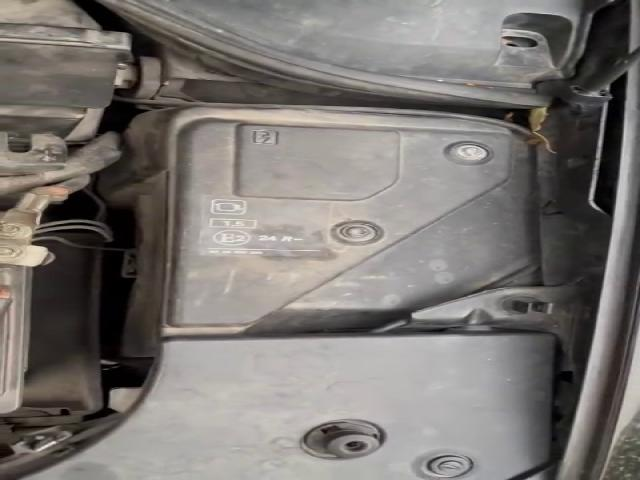fuse_box: (167, 116, 533, 328)
